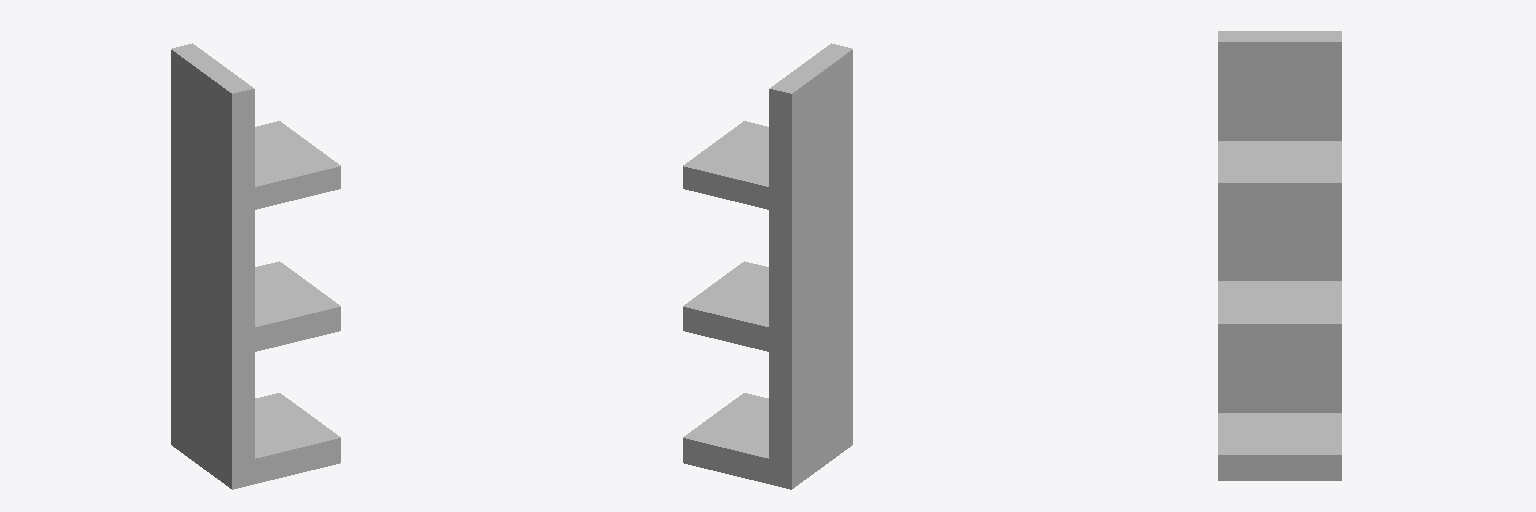
The model's file is bookshelf.obj.
The picture shows the model from 3 angles: view 1: azimuth 30°, elevation 25°; view 2: azimuth 150°, elevation 25°; view 3: azimuth 270°, elevation 25°; orthographic projection.
Visible parts, largest first — view 1: Cube; view 2: Cube; view 3: Cube.
Part boxes in pixels (x1,y1,x2,y2): Cube: (171,43,340,489); Cube: (683,43,852,489); Cube: (1218,31,1341,480).
Bounding box in the file's own units: 2.04 × 7.08 × 2.